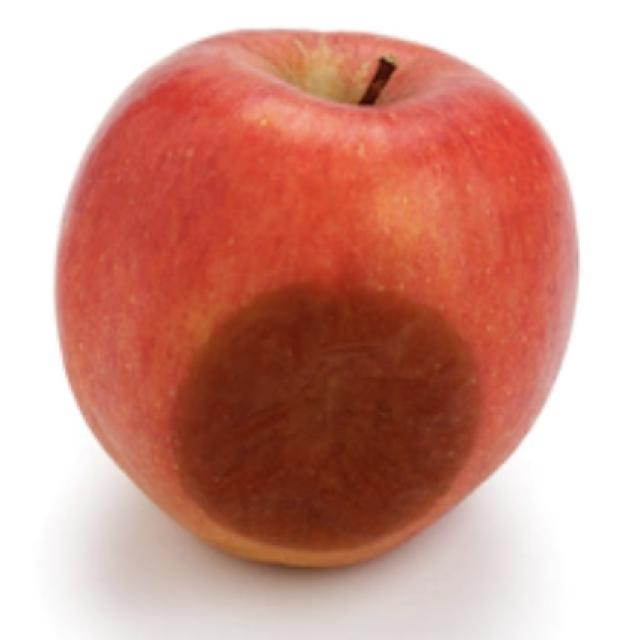apple: (56, 31, 578, 565)
